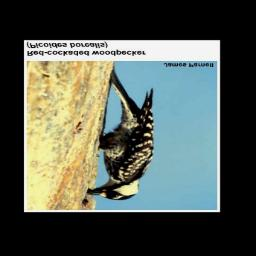Woodpecker: (83, 69, 159, 201)
